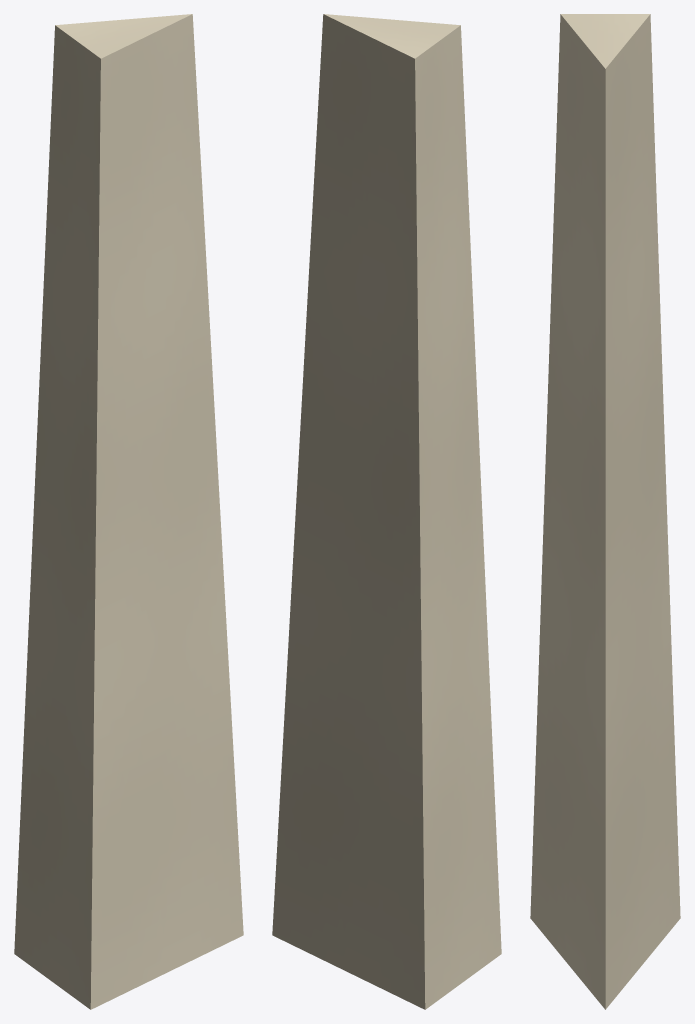
Rendered from atlas100-s033-a05.lod2.glb.
3 views of the same model, side by side, from view 1: azimuth 30°, elevation 25°; view 2: azimuth 150°, elevation 25°; view 3: azimuth 270°, elevation 25° (orthographic).
Visible parts, largest first — view 1: atlas100-s033-a05:part-000; view 2: atlas100-s033-a05:part-000; view 3: atlas100-s033-a05:part-000.
Boxes of the visible parts, box(x1,y1,x2,y2) form: atlas100-s033-a05:part-000: box(14, 14, 243, 1009); atlas100-s033-a05:part-000: box(272, 14, 501, 1009); atlas100-s033-a05:part-000: box(530, 14, 680, 1009).
Bounding box in the file's own units: 0.1638 × 0.7644 × 0.1135.
1 material, 1 textured.
